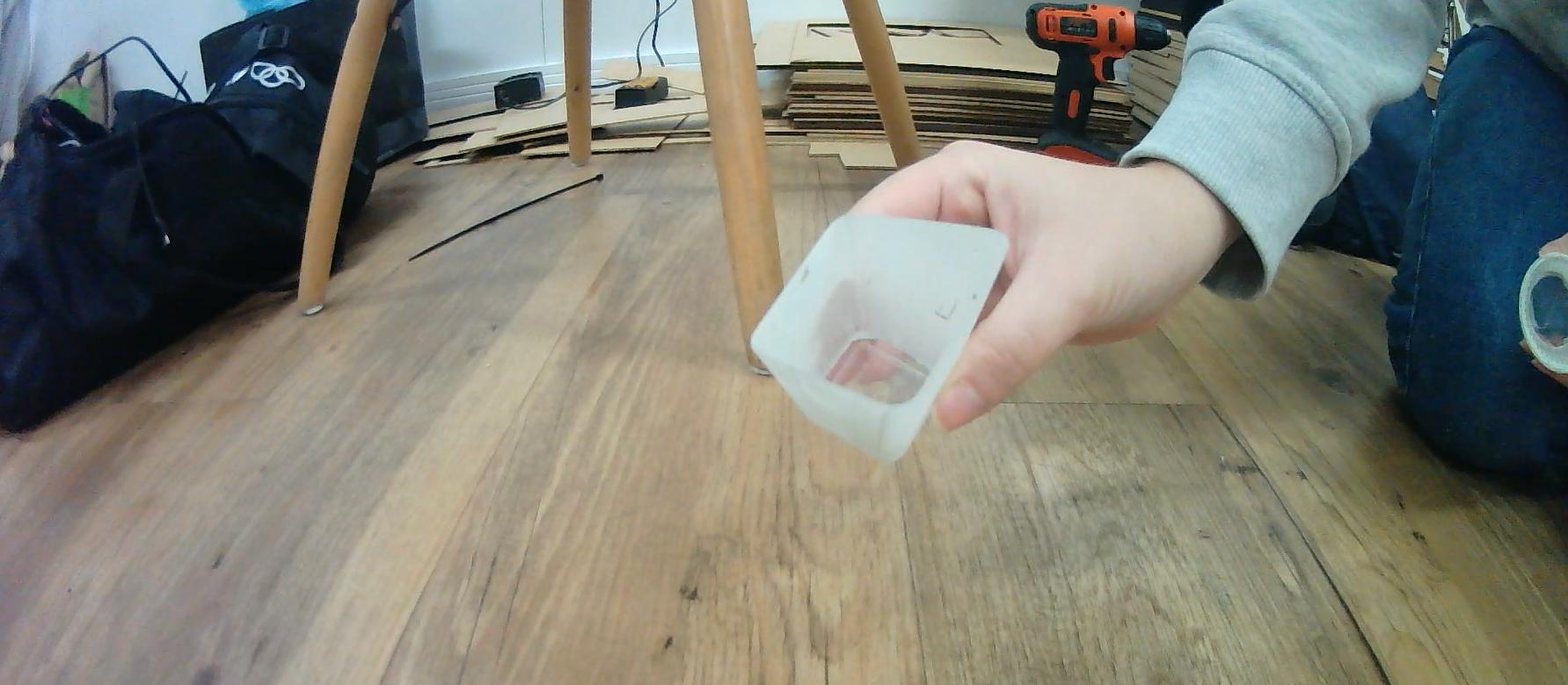erva_daninha: (749, 206, 1009, 465)
